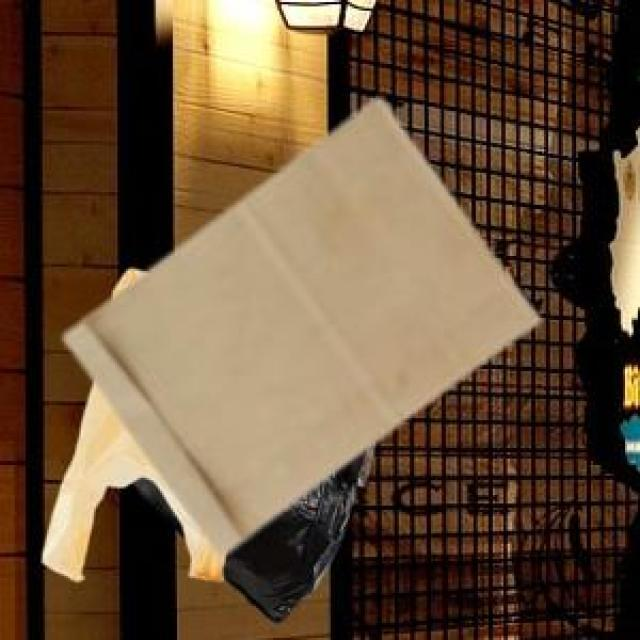miscellaneous trash: (130, 440, 369, 619)
paper: (62, 96, 533, 548)
